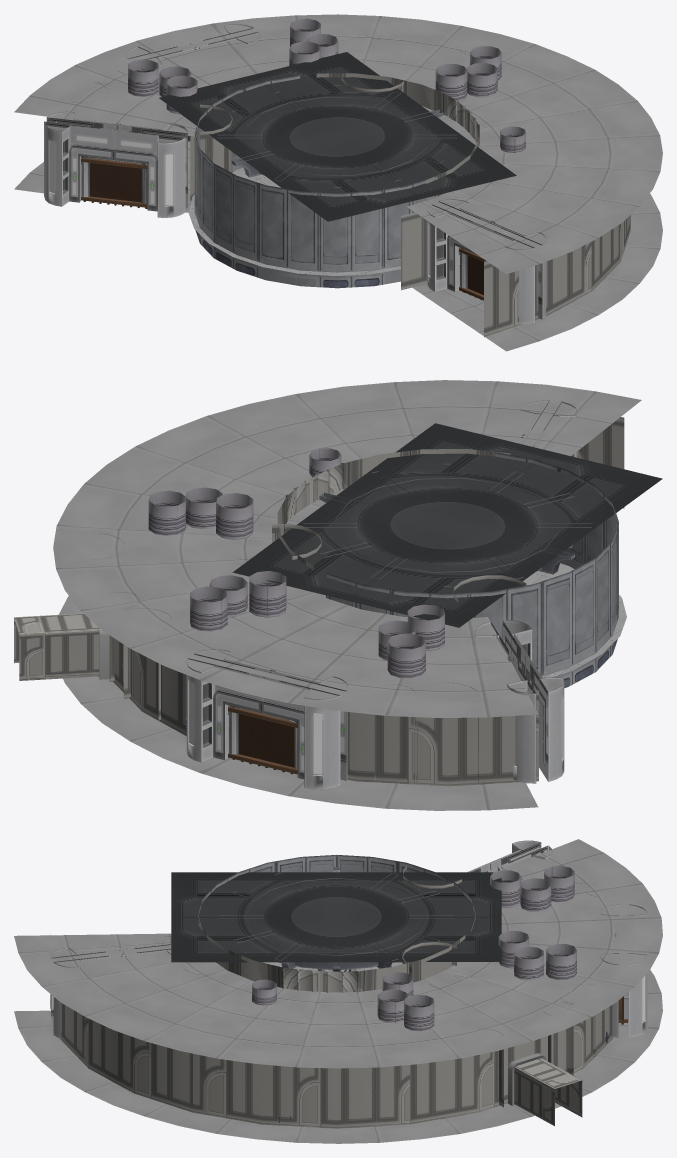
File: env_bespin_hall_02_pre.glb
The picture shows the model from 3 angles, top to bottom: view 1: azimuth 30°, elevation 25°; view 2: azimuth 150°, elevation 25°; view 3: azimuth 270°, elevation 25°; orthographic projection. The views are drawn at different scales.
Visible parts, largest first — view 1: besp_hall_floor_mesh, roomceiling_01_mesh, hall_02_intwall_mesh, hall_02_outwalls_mesh, bespin_doorframe_mesh 1, env_bespin_intskylight_01_mesh (×9), bespin_doorframe_mesh 2, bespin_halldoor_mesh 1, env_bespinroomceilingfixture_01_mesh, hall_02_wallcyl_01_mesh, hall_02_cirfloor_mesh, bespin_halldoor_mesh 2 (+1 smaller); view 2: besp_hall_floor_mesh, roomceiling_01_mesh, hall_02_outwalls_mesh, hall_02_intwall_mesh, env_bespin_intskylight_01_mesh (×10), bespin_doorframe_mesh, bespin_doorframe_mesh 1, bespin_halldoor_mesh, hall_02_wallcyl_01_mesh, env_bespinroomceilingfixture_01_mesh, hall_02_cirfloor_mesh; view 3: besp_hall_floor_mesh, hall_02_outwalls_mesh, roomceiling_01_mesh, env_bespin_intskylight_01_mesh (×10), hall_02_intwall_mesh, env_bespinroomceilingfixture_01_mesh, bespin_doorframe_mesh, hall_02_wallcyl_01_mesh, bespin_doorframe_mesh 2, bespin_doorframe_mesh 1, bespin_door_03.
Part boxes in pixels (left/top/right/bottom): besp_hall_floor_mesh: left=14, top=14, right=662, bottom=351; roomceiling_01_mesh: left=159, top=52, right=516, bottom=221; hall_02_intwall_mesh: left=194, top=75, right=437, bottom=288; hall_02_outwalls_mesh: left=55, top=73, right=630, bottom=337; bespin_doorframe_mesh 1: left=44, top=111, right=187, bottom=217; env_bespin_intskylight_01_mesh (×9): left=128, top=18, right=525, bottom=152; bespin_doorframe_mesh 2: left=427, top=199, right=546, bottom=324; bespin_halldoor_mesh 1: left=81, top=156, right=147, bottom=208; env_bespinroomceilingfixture_01_mesh: left=217, top=85, right=457, bottom=187; hall_02_wallcyl_01_mesh: left=72, top=34, right=503, bottom=198; hall_02_cirfloor_mesh: left=188, top=167, right=400, bottom=276; bespin_halldoor_mesh 2: left=459, top=248, right=485, bottom=300; besp_hall_floor_mesh: left=53, top=380, right=641, bottom=810; roomceiling_01_mesh: left=232, top=423, right=662, bottom=627; hall_02_outwalls_mesh: left=14, top=417, right=624, bottom=786; hall_02_intwall_mesh: left=326, top=452, right=618, bottom=688; env_bespin_intskylight_01_mesh (×10): left=148, top=448, right=444, bottom=678; bespin_doorframe_mesh: left=186, top=649, right=347, bottom=789; bespin_doorframe_mesh 1: left=474, top=620, right=564, bottom=783; bespin_halldoor_mesh: left=228, top=705, right=297, bottom=774; hall_02_wallcyl_01_mesh: left=93, top=524, right=526, bottom=784; env_bespinroomceilingfixture_01_mesh: left=302, top=463, right=592, bottom=586; hall_02_cirfloor_mesh: left=523, top=563, right=626, bottom=677; besp_hall_floor_mesh: left=14, top=839, right=662, bottom=1143; hall_02_outwalls_mesh: left=50, top=849, right=612, bottom=1128; roomceiling_01_mesh: left=171, top=872, right=501, bottom=962; env_bespin_intskylight_01_mesh (×10): left=252, top=865, right=576, bottom=1031; hall_02_intwall_mesh: left=198, top=855, right=475, bottom=931; env_bespinroomceilingfixture_01_mesh: left=219, top=867, right=453, bottom=971; bespin_doorframe_mesh: left=600, top=904, right=647, bottom=1037; hall_02_wallcyl_01_mesh: left=183, top=864, right=610, bottom=1107; bespin_doorframe_mesh 2: left=51, top=936, right=171, bottom=1038; bespin_doorframe_mesh 1: left=467, top=840, right=552, bottom=872; bespin_door_03: left=508, top=1053, right=546, bottom=1105.
Bounding box in the file's own units: 39.34 × 8.14 × 47.01.
Materials: 13 (13 with a texture image).
